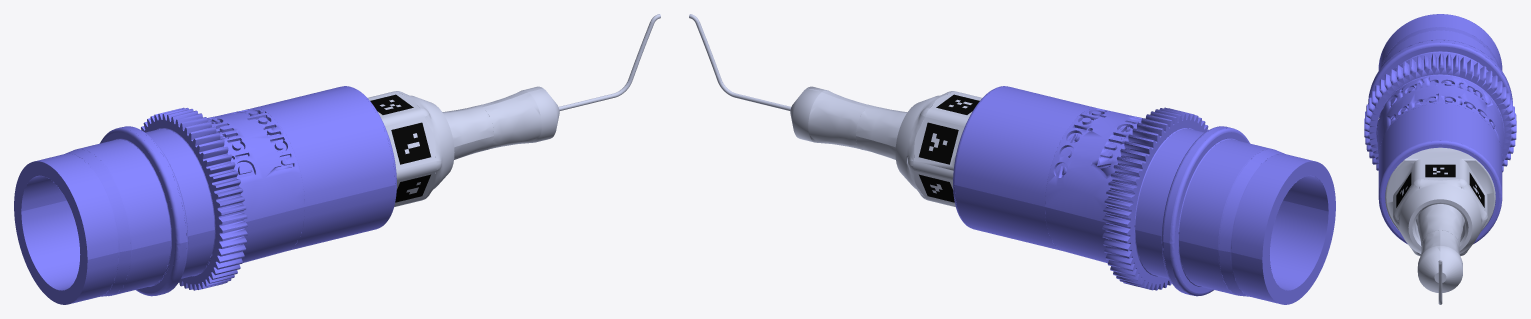
File: diathermic_tip.obj
The picture shows the model from 3 angles, left to right: view 1: azimuth 30°, elevation 25°; view 2: azimuth 150°, elevation 25°; view 3: azimuth 270°, elevation 25°; orthographic projection. The views are drawn at different scales.
Visible parts, largest first — view 1: diathermic_tip.001; view 2: diathermic_tip.001; view 3: diathermic_tip.001.
Part boxes in pixels (x1,y1,x2,y2): diathermic_tip.001: (14,14,660,304); diathermic_tip.001: (689,14,1335,304); diathermic_tip.001: (1364,14,1516,304).
Bounding box in the file's own units: 98.03 × 25.2 × 25.19.
